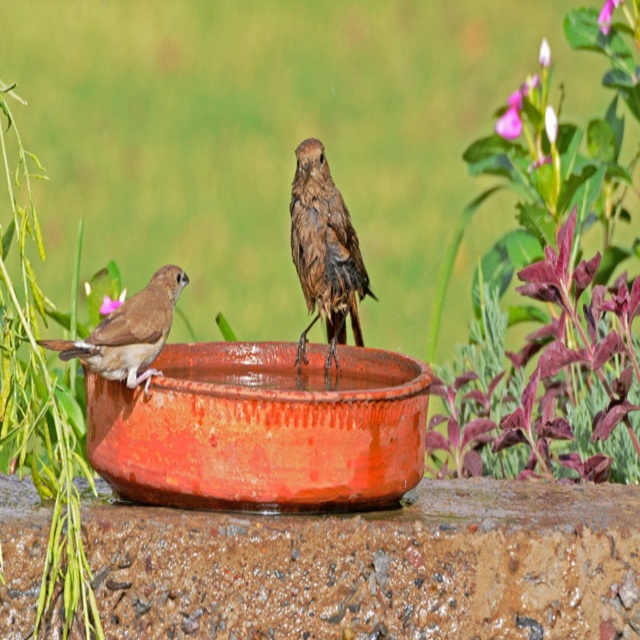Sparrow: (290, 135, 379, 380), (36, 265, 189, 398)
